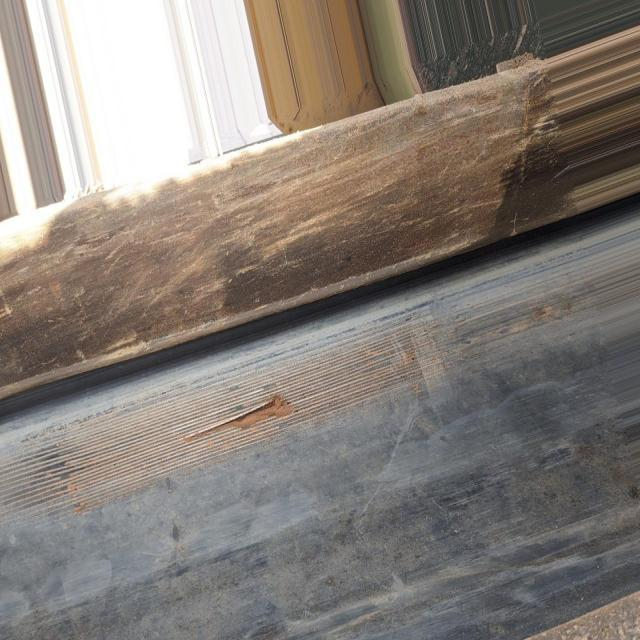Wear: (0, 230, 640, 524)
